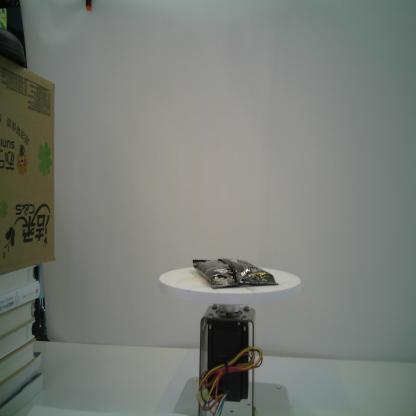Instant Drink: (191, 256, 279, 290)
